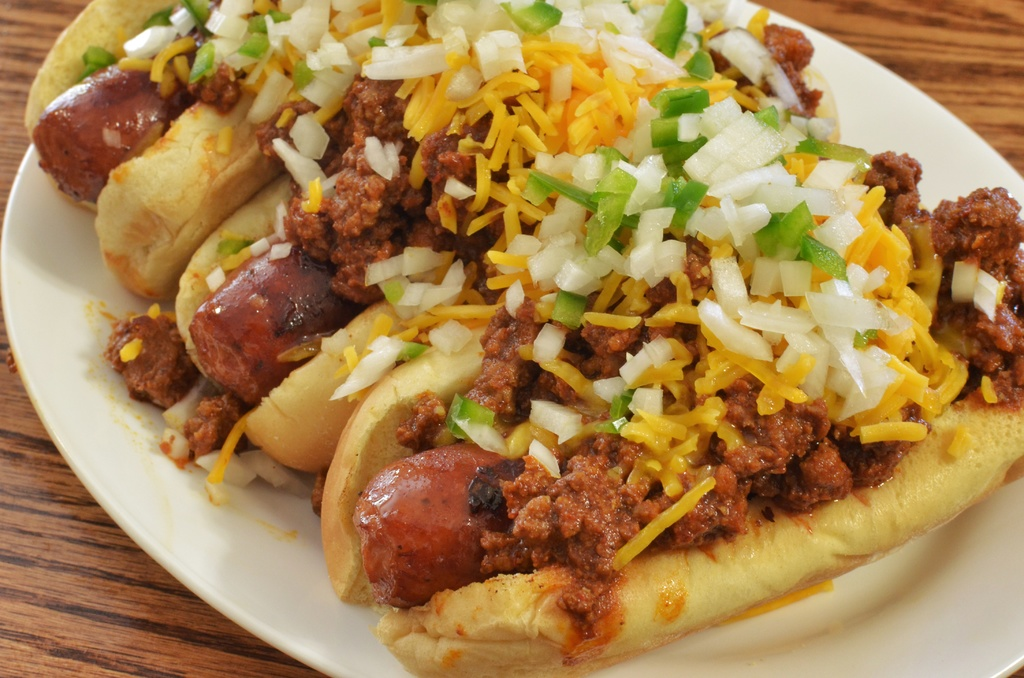hot_dog: (316, 156, 1023, 677), (25, 0, 294, 291), (169, 168, 420, 475)
